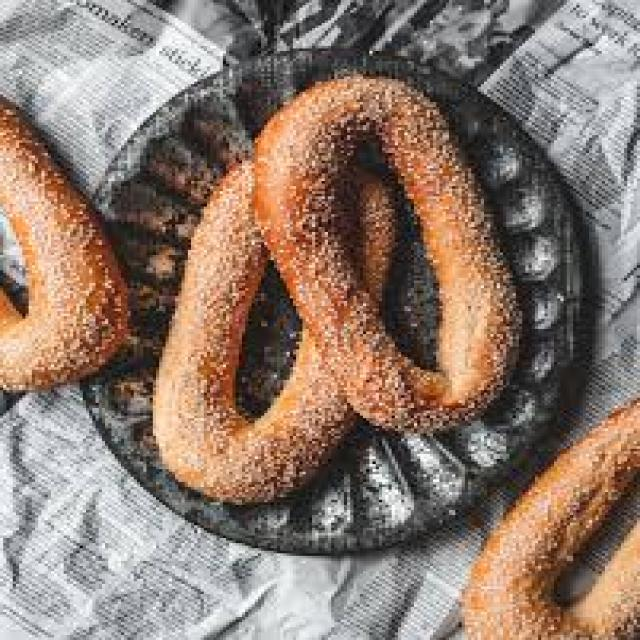Bagel: (254, 75, 517, 432), (153, 161, 356, 503), (462, 400, 638, 640), (0, 99, 128, 391)
